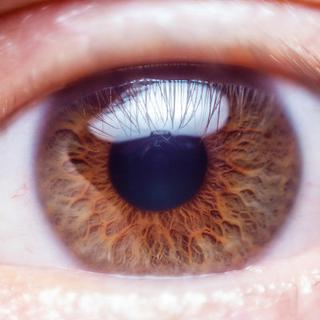iris: (29, 33, 293, 297)
